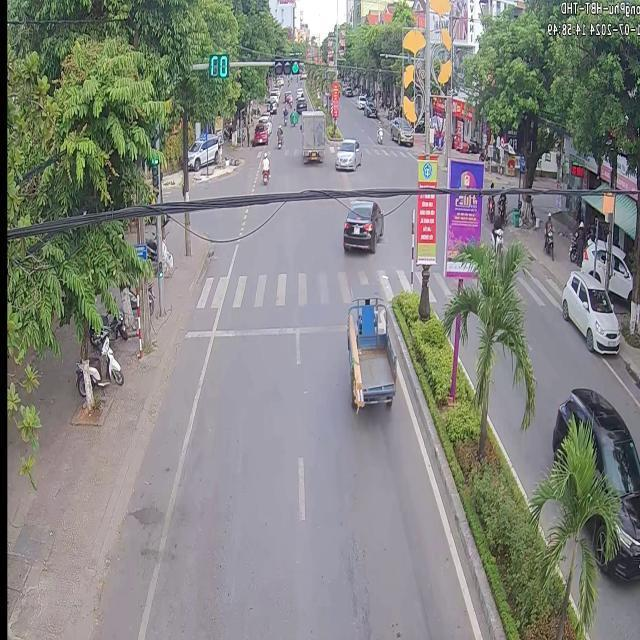car: (346, 294, 394, 408), (342, 196, 382, 251), (299, 109, 323, 161), (333, 138, 360, 169)
green_light: (272, 56, 298, 74), (149, 151, 157, 184)
motobike: (259, 149, 268, 182)
stop_line: (183, 322, 345, 336)
